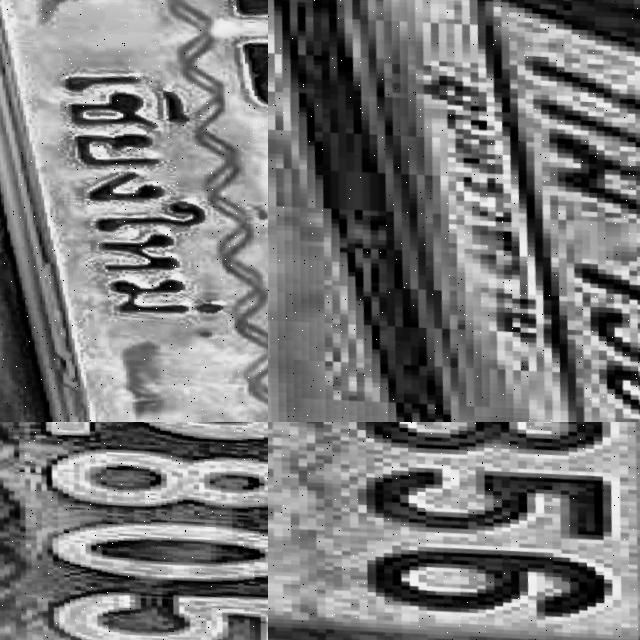license-plate: (284, 0, 640, 422), (0, 0, 268, 422), (268, 422, 640, 640), (0, 422, 268, 640)
